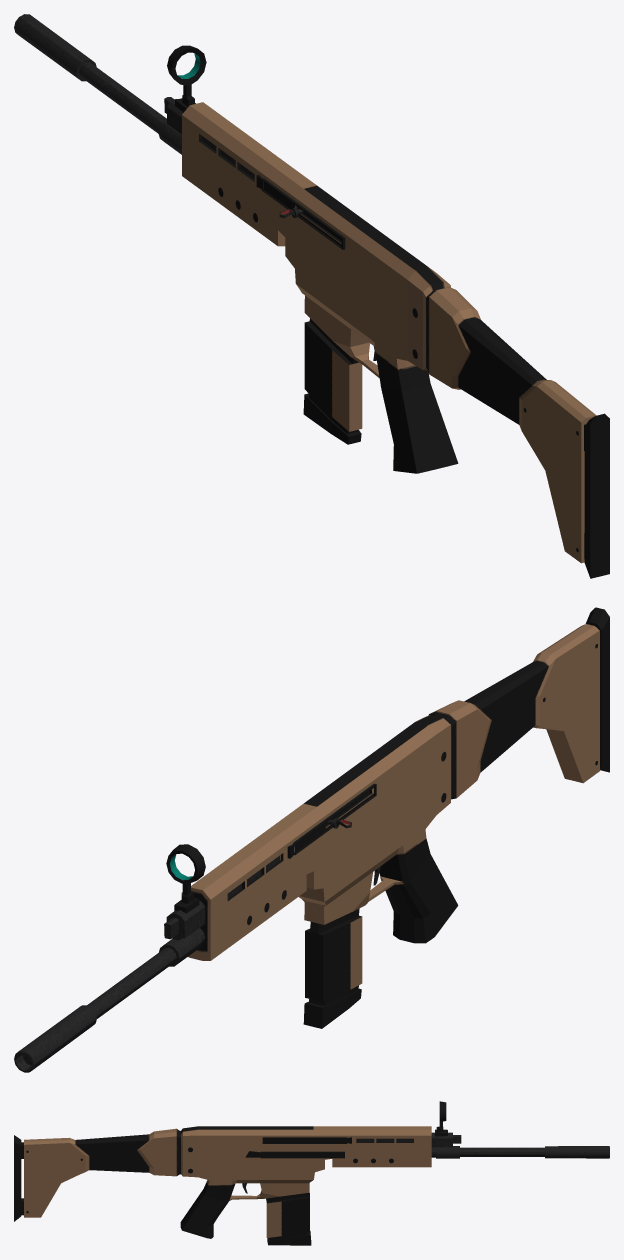
Rendered from assault_rifle_2.glb.
3 renders of one model, top to bottom at view 1: azimuth 30°, elevation 25°; view 2: azimuth 150°, elevation 25°; view 3: azimuth 270°, elevation 25°, orthographic. The views are drawn at different scales.
Visible parts, largest first — view 1: ar_frame_2, ar_magazine_2, ar_barrel_2; view 2: ar_frame_2, ar_magazine_2, ar_barrel_2; view 3: ar_frame_2, ar_magazine_2, ar_barrel_2.
Boxes of the visible parts, box(x1,y1,x2,y2) form: ar_frame_2: box(164, 45, 609, 578); ar_magazine_2: box(303, 318, 362, 444); ar_barrel_2: box(14, 14, 181, 154); ar_frame_2: box(164, 607, 609, 960); ar_magazine_2: box(303, 908, 362, 1028); ar_barrel_2: box(14, 928, 205, 1072); ar_frame_2: box(14, 1101, 461, 1238); ar_magazine_2: box(266, 1192, 311, 1245); ar_barrel_2: box(431, 1146, 609, 1158).
Bounding box in the file's own units: 0.0567 × 0.2609 × 0.9962.
Materials: 1 (1 with a texture image).
